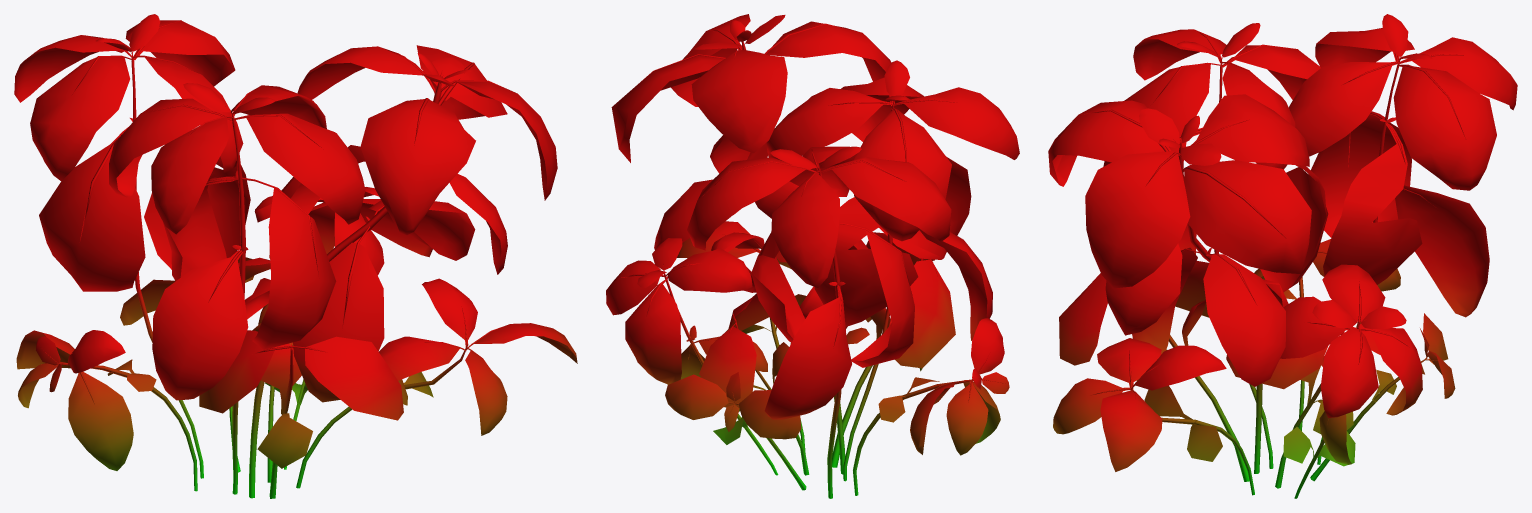
File: Basil_LOD2_Var6_vgpochzia.fbx
3 views of the same model, side by side, from view 1: azimuth 30°, elevation 25°; view 2: azimuth 150°, elevation 25°; view 3: azimuth 270°, elevation 25° (orthographic). The views are drawn at different scales.
Visible parts, largest first — view 1: _0zi6_Var6_LOD2; view 2: _0zi6_Var6_LOD2; view 3: _0zi6_Var6_LOD2.
Part boxes in pixels (bbox=[...]): _0zi6_Var6_LOD2: bbox=[14, 14, 577, 498]; _0zi6_Var6_LOD2: bbox=[606, 14, 1019, 498]; _0zi6_Var6_LOD2: bbox=[1048, 14, 1517, 498].
Bounding box in the file's own units: 25.8 × 23.87 × 24.01.
